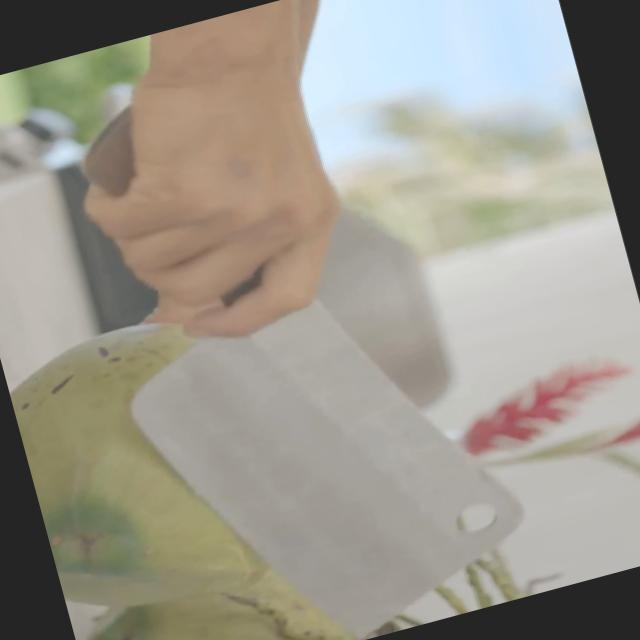knife: (129, 305, 520, 637)
